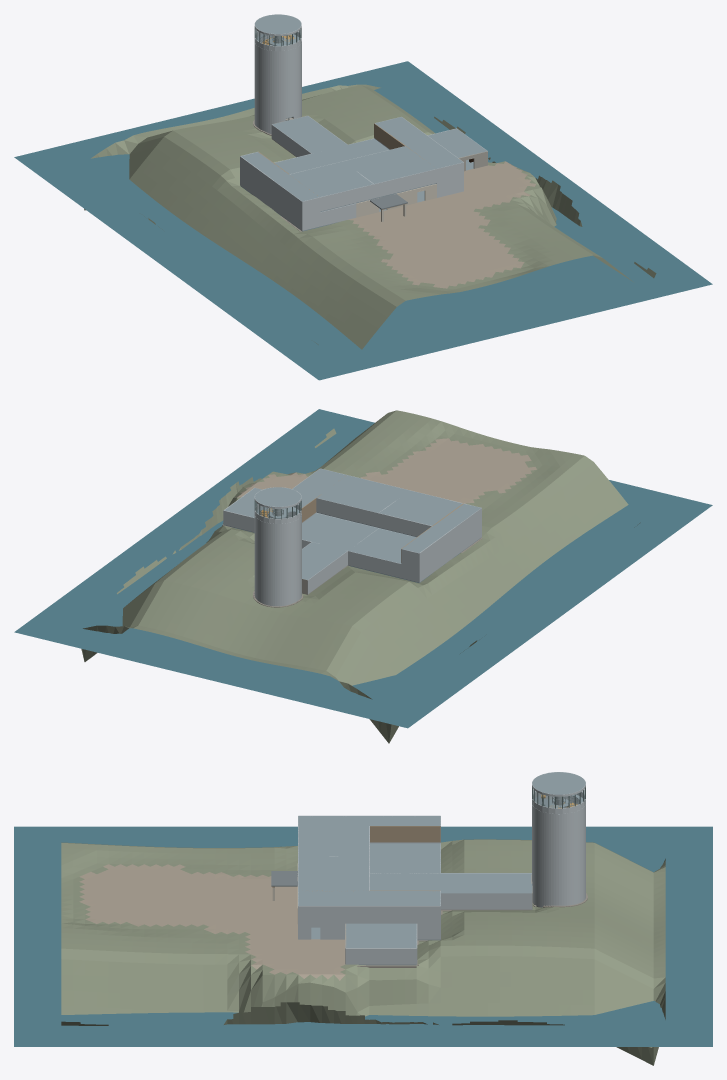
The model's file is lightstation.glb.
3 renders of one model, top to bottom at view 1: azimuth 30°, elevation 25°; view 2: azimuth 150°, elevation 25°; view 3: azimuth 270°, elevation 25°, orthographic. The views are drawn at different scales.
Parts seen in each view (by area): view 1: WATER PLACEHOLDER / layers and transparency pending, WLD-14 saved ground, Ceiling cap study, Ceiling cap bed, Ceiling cap upperhall, Ceiling cap passage, Ceiling cap service-upper, Ceiling cap store, Wall service-stair W, Wall service-upper W, Wall study S, Ceiling cap generator (+7 smaller); view 2: WLD-14 saved ground, WATER PLACEHOLDER / layers and transparency pending, Ceiling cap study, Ceiling cap store, Ceiling cap bed, Ceiling cap workroom, Ceiling cap service-upper, Wall service-stair W, Ceiling cap passage, Wall service-upper W, Ceiling cap upperhall, Wall study N (+9 smaller); view 3: WLD-14 saved ground, WATER PLACEHOLDER / layers and transparency pending, Ceiling cap study, Wall upperhall E, Ceiling cap workroom, Ceiling cap bed, Ceiling cap upperhall, Ceiling cap passage, Ceiling cap generator, Wall passage E, Ceiling cap service-upper, Flat route shell Wall stairs E (+9 smaller).
Boxes of the visible parts, x1,y1,x2,y2 form: WATER PLACEHOLDER / layers and transparency pending: (14,61,712,380); WLD-14 saved ground: (84,84,656,349); Ceiling cap study: (343,146,436,183); Ceiling cap bed: (289,161,373,196); Ceiling cap upperhall: (375,117,462,168); Ceiling cap passage: (272,115,347,153); Ceiling cap service-upper: (241,152,319,201); Ceiling cap store: (312,138,389,164); Wall service-stair W: (240,170,302,230); Wall service-upper W: (240,156,302,215); Wall study S: (374,169,436,198); Ceiling cap generator: (428,128,487,157); WLD-14 saved ground: (81,410,640,743); WATER PLACEHOLDER / layers and transparency pending: (14,409,712,728); Ceiling cap study: (317,475,409,512); Ceiling cap store: (302,513,377,550); Ceiling cap bed: (379,490,462,525); Ceiling cap workroom: (348,528,415,563); Ceiling cap service-upper: (402,504,480,552); Wall service-stair W: (419,522,481,582); Ceiling cap passage: (302,542,346,579); Wall service-upper W: (419,508,481,567); Ceiling cap upperhall: (292,468,346,507); Wall study N: (316,498,378,527); WLD-14 saved ground: (61,839,665,1065); WATER PLACEHOLDER / layers and transparency pending: (14,826,712,1046); Ceiling cap study: (298,856,369,890); Wall upperhall E: (298,906,440,922); Ceiling cap workroom: (370,843,440,873); Ceiling cap bed: (298,826,369,855); Ceiling cap upperhall: (298,891,440,905); Ceiling cap passage: (440,873,532,893); Ceiling cap generator: (345,923,416,947); Wall passage E: (441,893,532,909); Ceiling cap service-upper: (298,816,440,825); Flat route shell Wall stairs E: (298,922,440,939).
Size of the model in its own units: 88 by 38.28 by 118.
73 materials, 45 textured.
